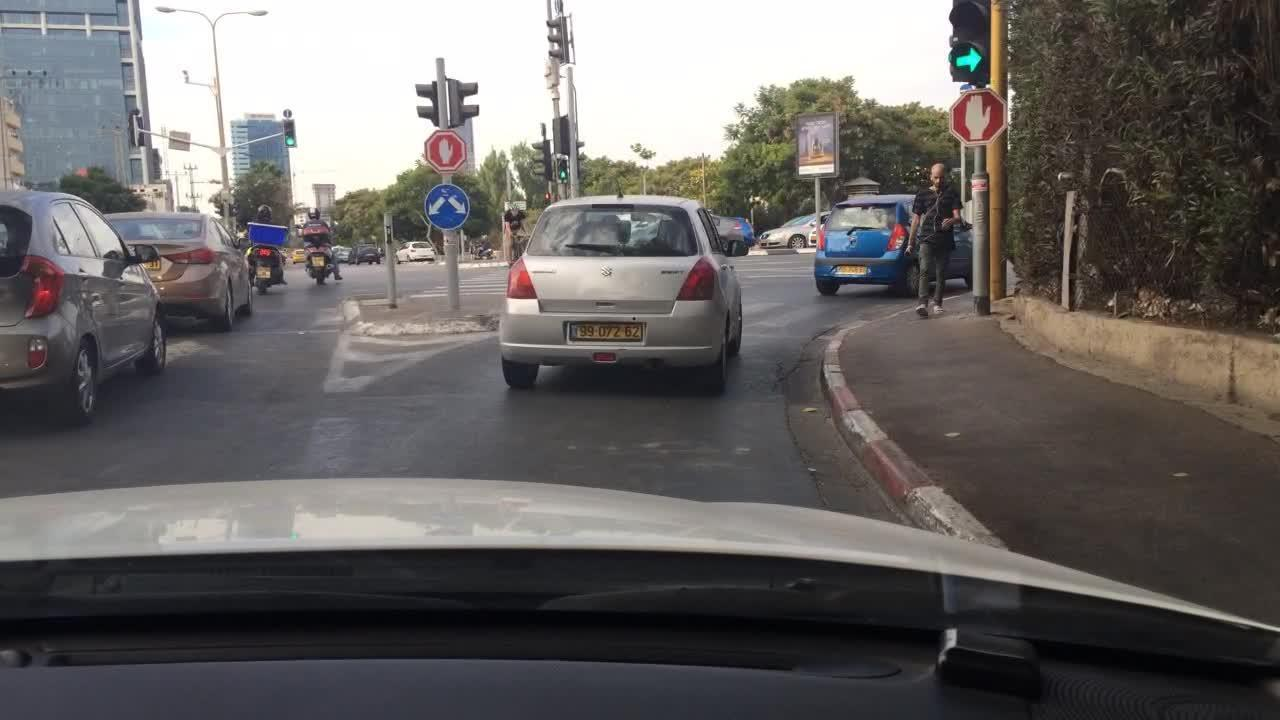suzuki: (597, 262, 615, 283)
